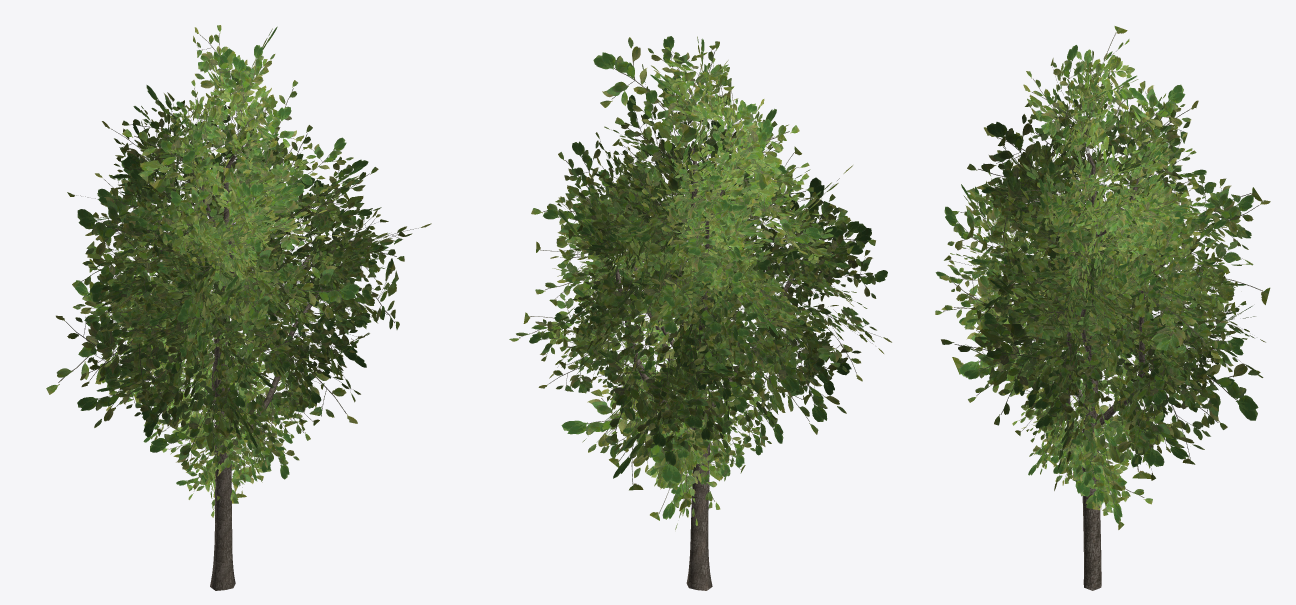
Rendered from tree_linden_v0_l0.glb.
The picture shows the model from 3 angles, left to right: view 1: azimuth 30°, elevation 25°; view 2: azimuth 150°, elevation 25°; view 3: azimuth 270°, elevation 25°; orthographic projection.
Visible parts, largest first — view 1: tree_linden_v0_l0; view 2: tree_linden_v0_l0; view 3: tree_linden_v0_l0.
Part boxes in pixels (left/top/right/bottom): tree_linden_v0_l0: left=46, top=25, right=431, bottom=590; tree_linden_v0_l0: left=509, top=36, right=891, bottom=590; tree_linden_v0_l0: left=935, top=26, right=1270, bottom=590.
Bounding box in the file's own units: 8.42 × 11.89 × 6.74.
Materials: 2 (2 with a texture image).
